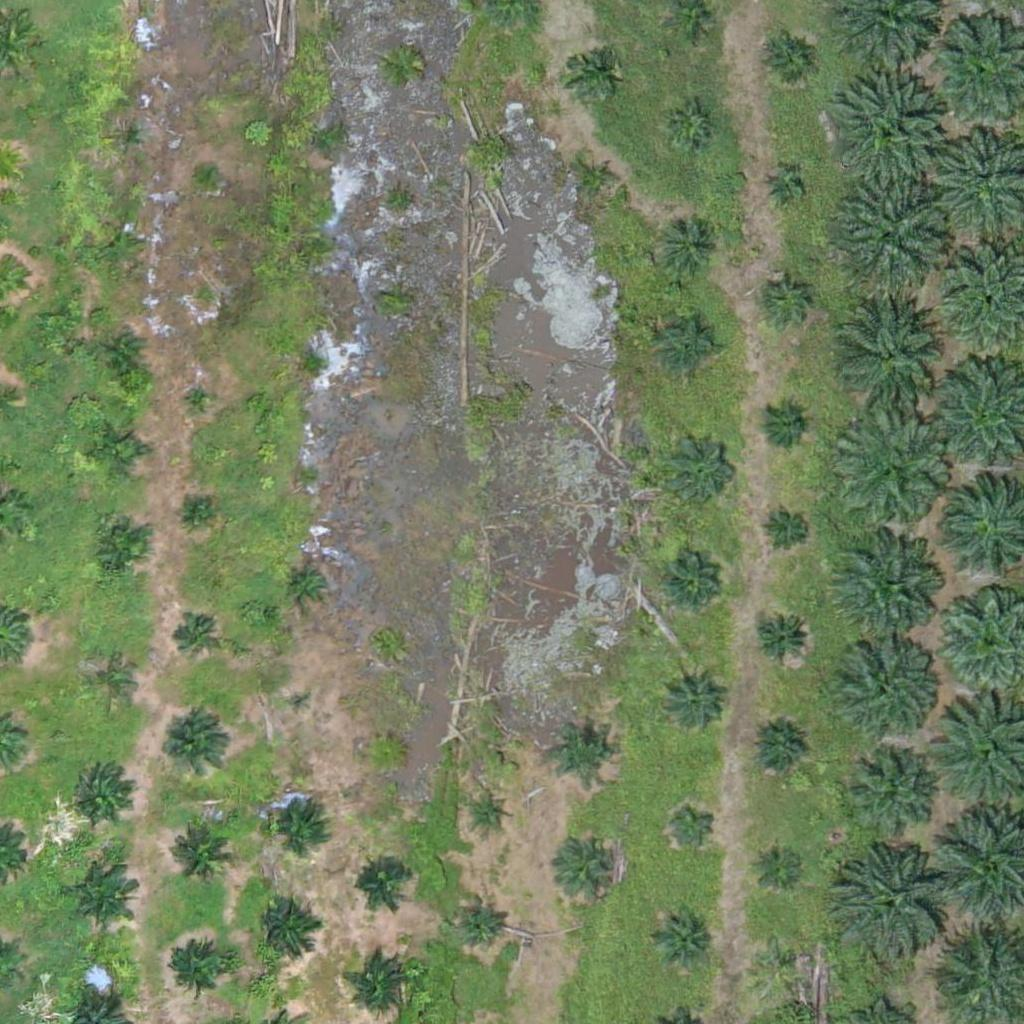Kelapa_Sawit: (828, 841, 953, 967), (837, 417, 950, 531), (834, 76, 947, 189), (835, 178, 948, 291), (835, 293, 948, 406), (830, 536, 942, 650), (836, 634, 936, 735), (846, 751, 934, 839), (161, 941, 236, 1017), (64, 860, 139, 936), (157, 713, 232, 789), (165, 815, 240, 891), (664, 430, 739, 505), (562, 834, 625, 897), (551, 718, 614, 781), (266, 790, 329, 853), (660, 557, 723, 620), (649, 906, 712, 969), (750, 607, 813, 670), (352, 952, 414, 1015), (351, 852, 413, 915), (255, 898, 318, 960), (72, 764, 134, 827), (89, 519, 151, 582), (660, 217, 722, 280), (659, 314, 721, 377), (661, 668, 723, 731), (747, 719, 809, 782), (88, 420, 150, 483), (762, 274, 812, 325), (753, 836, 803, 887), (752, 933, 802, 984), (668, 798, 718, 849), (758, 398, 808, 449), (170, 612, 220, 663), (564, 46, 614, 96), (666, 102, 716, 152), (454, 896, 504, 946), (85, 657, 135, 707), (762, 506, 812, 556), (765, 37, 815, 87), (284, 560, 334, 610), (471, 794, 509, 832), (581, 160, 619, 198), (764, 169, 802, 207), (368, 734, 406, 772), (182, 382, 220, 420), (106, 334, 144, 372), (102, 225, 140, 263), (111, 119, 148, 157), (184, 498, 209, 524), (196, 159, 221, 184), (288, 688, 313, 713)
